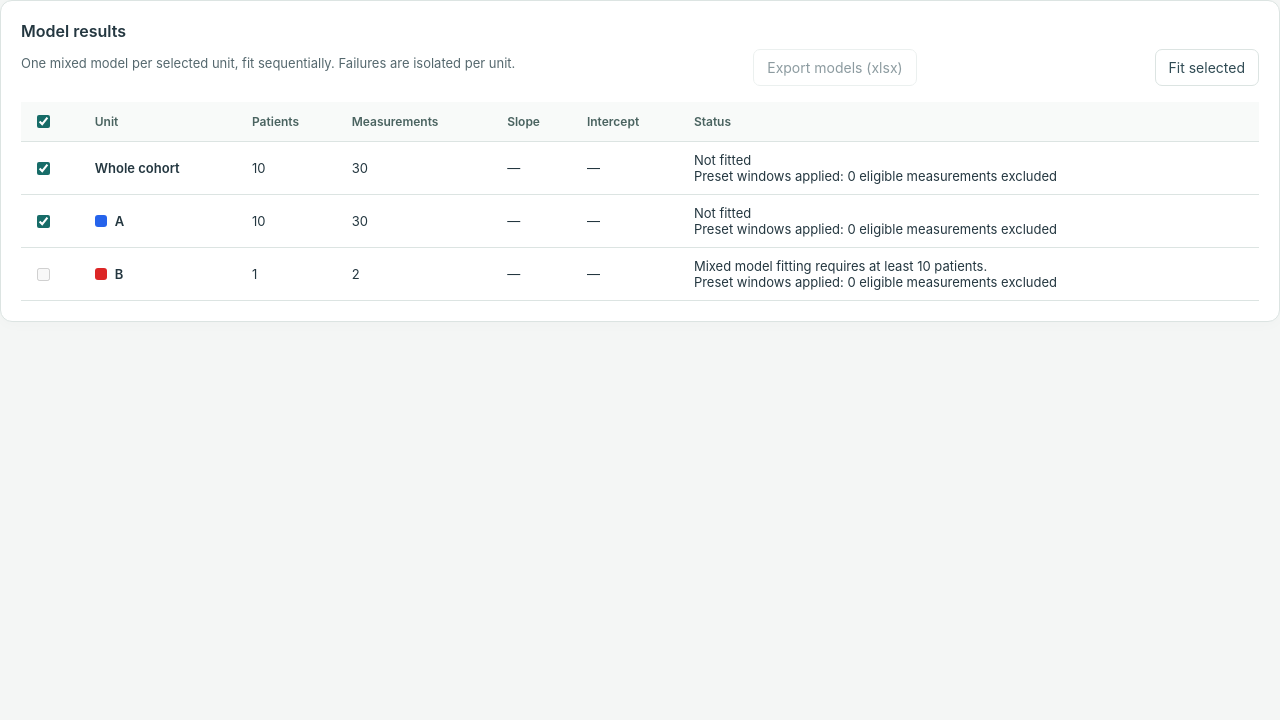
it: shows all stored coefficients and enables export only after a fit
Expected: the button "Export models (xlsx)" is disabled, [753,49,917,86]
Click the button "Fit selected".
click(1207, 68)  # box [1154,49,1259,86]
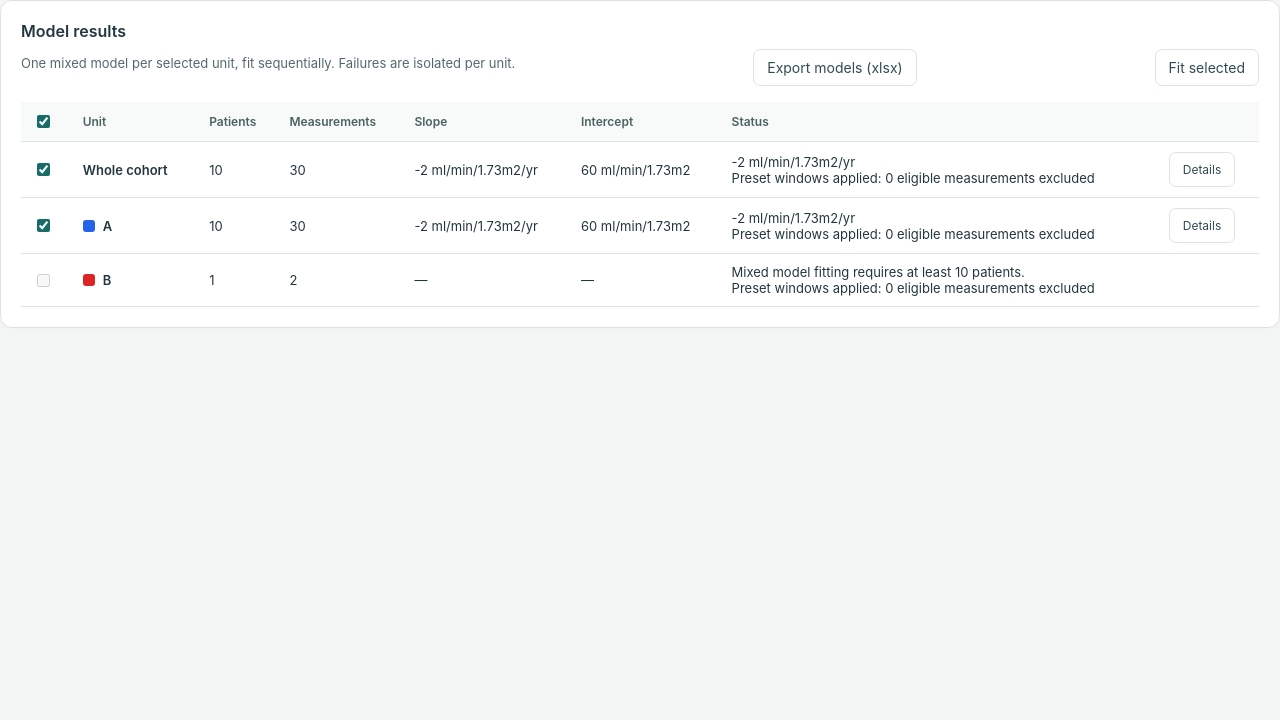
Expected: the button "Export models (xlsx)" is enabled, [753,49,917,86]
Click the button "Details" in the row of "Whole cohort".
click(1202, 170)  # box [1169,152,1235,187]
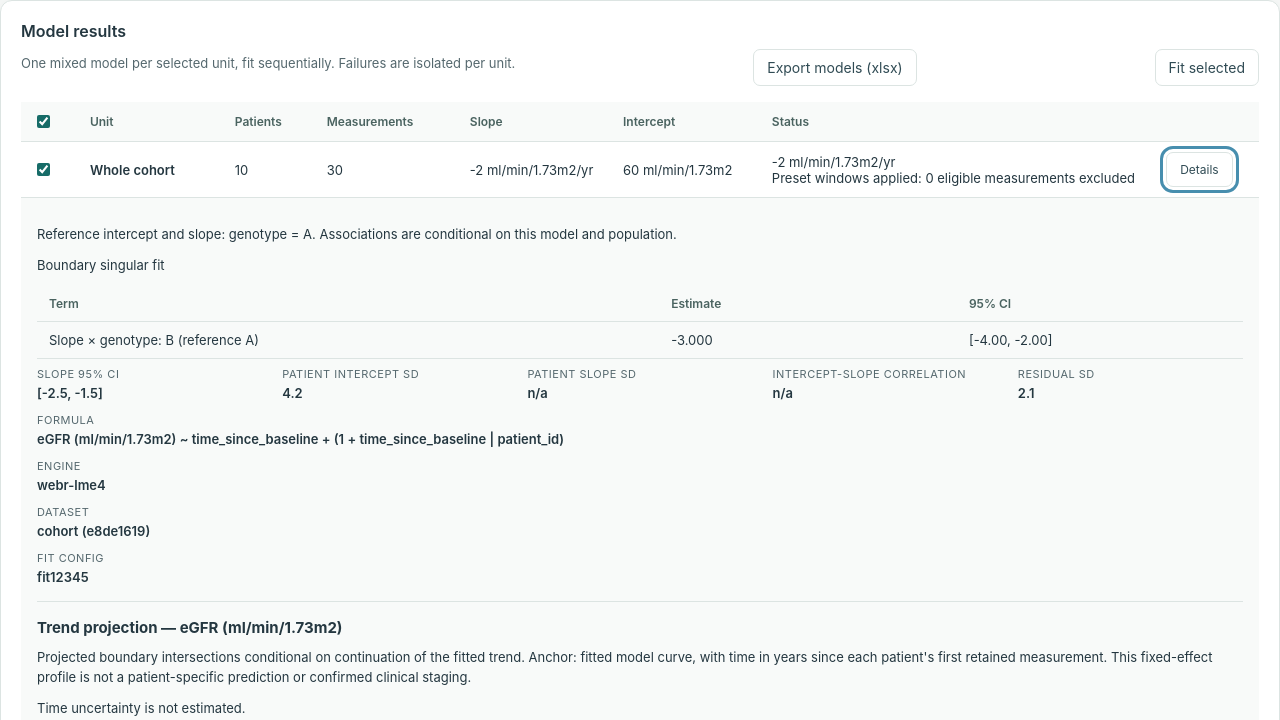
Expected: the text "Boundary singular fit" is shown, [37,257,165,273]
